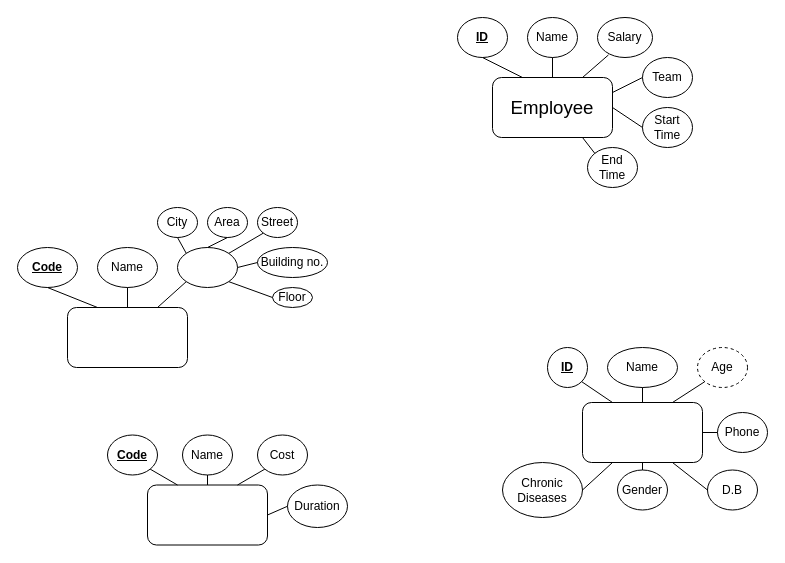
Image size: 785x563. Some labels were removed from this diagram. The box of each missing label's shape, as (x1, y1, x2, y2) in pixels:
Address: (176, 246, 238, 288)
Branch: (66, 306, 188, 368)
Patient: (582, 402, 702, 462)
Test: (146, 484, 268, 545)
